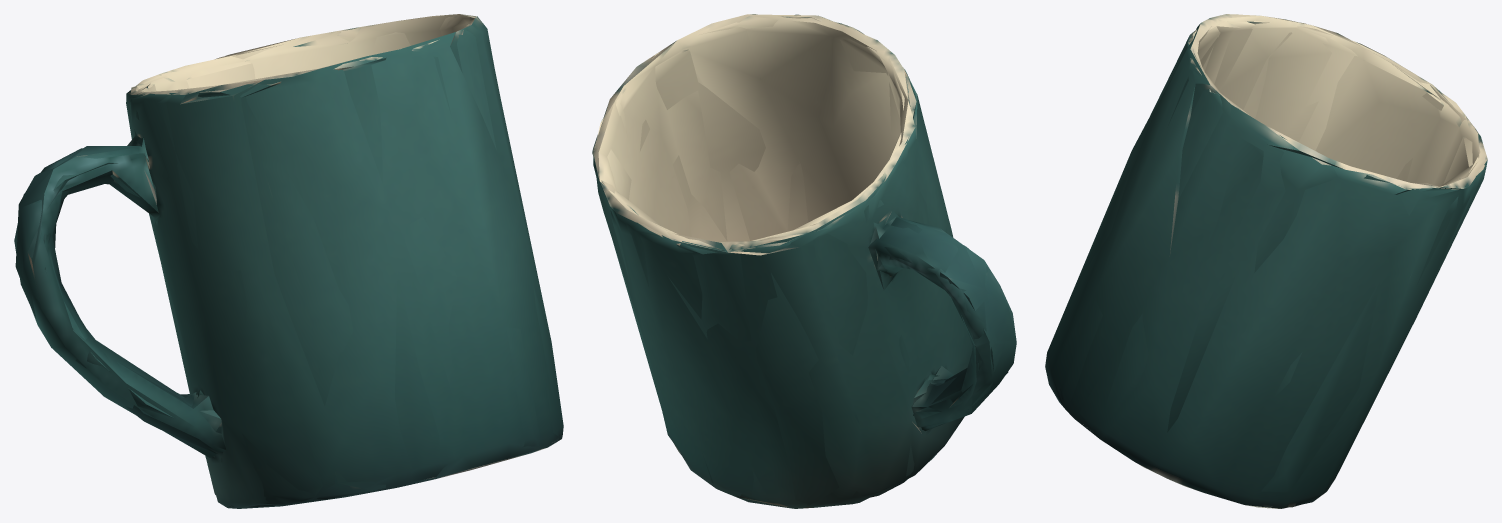
Rendered from ceramic_coffee_mug_with_a_LOD2.glb.
3 views of the same model, side by side, from view 1: azimuth 30°, elevation 25°; view 2: azimuth 150°, elevation 25°; view 3: azimuth 270°, elevation 25° (orthographic). The views are drawn at different scales.
Visible parts, largest first — view 1: ceramic_coffee_mug_with_a_LOD2; view 2: ceramic_coffee_mug_with_a_LOD2; view 3: ceramic_coffee_mug_with_a_LOD2.
Boxes of the visible parts, <box> form: ceramic_coffee_mug_with_a_LOD2: <box>14,14,563,508</box>; ceramic_coffee_mug_with_a_LOD2: <box>592,14,1016,508</box>; ceramic_coffee_mug_with_a_LOD2: <box>1045,14,1487,508</box>.
Bounding box in the file's own units: 0.0953 × 0.1 × 0.093.
Materials: 1 (1 with a texture image).
